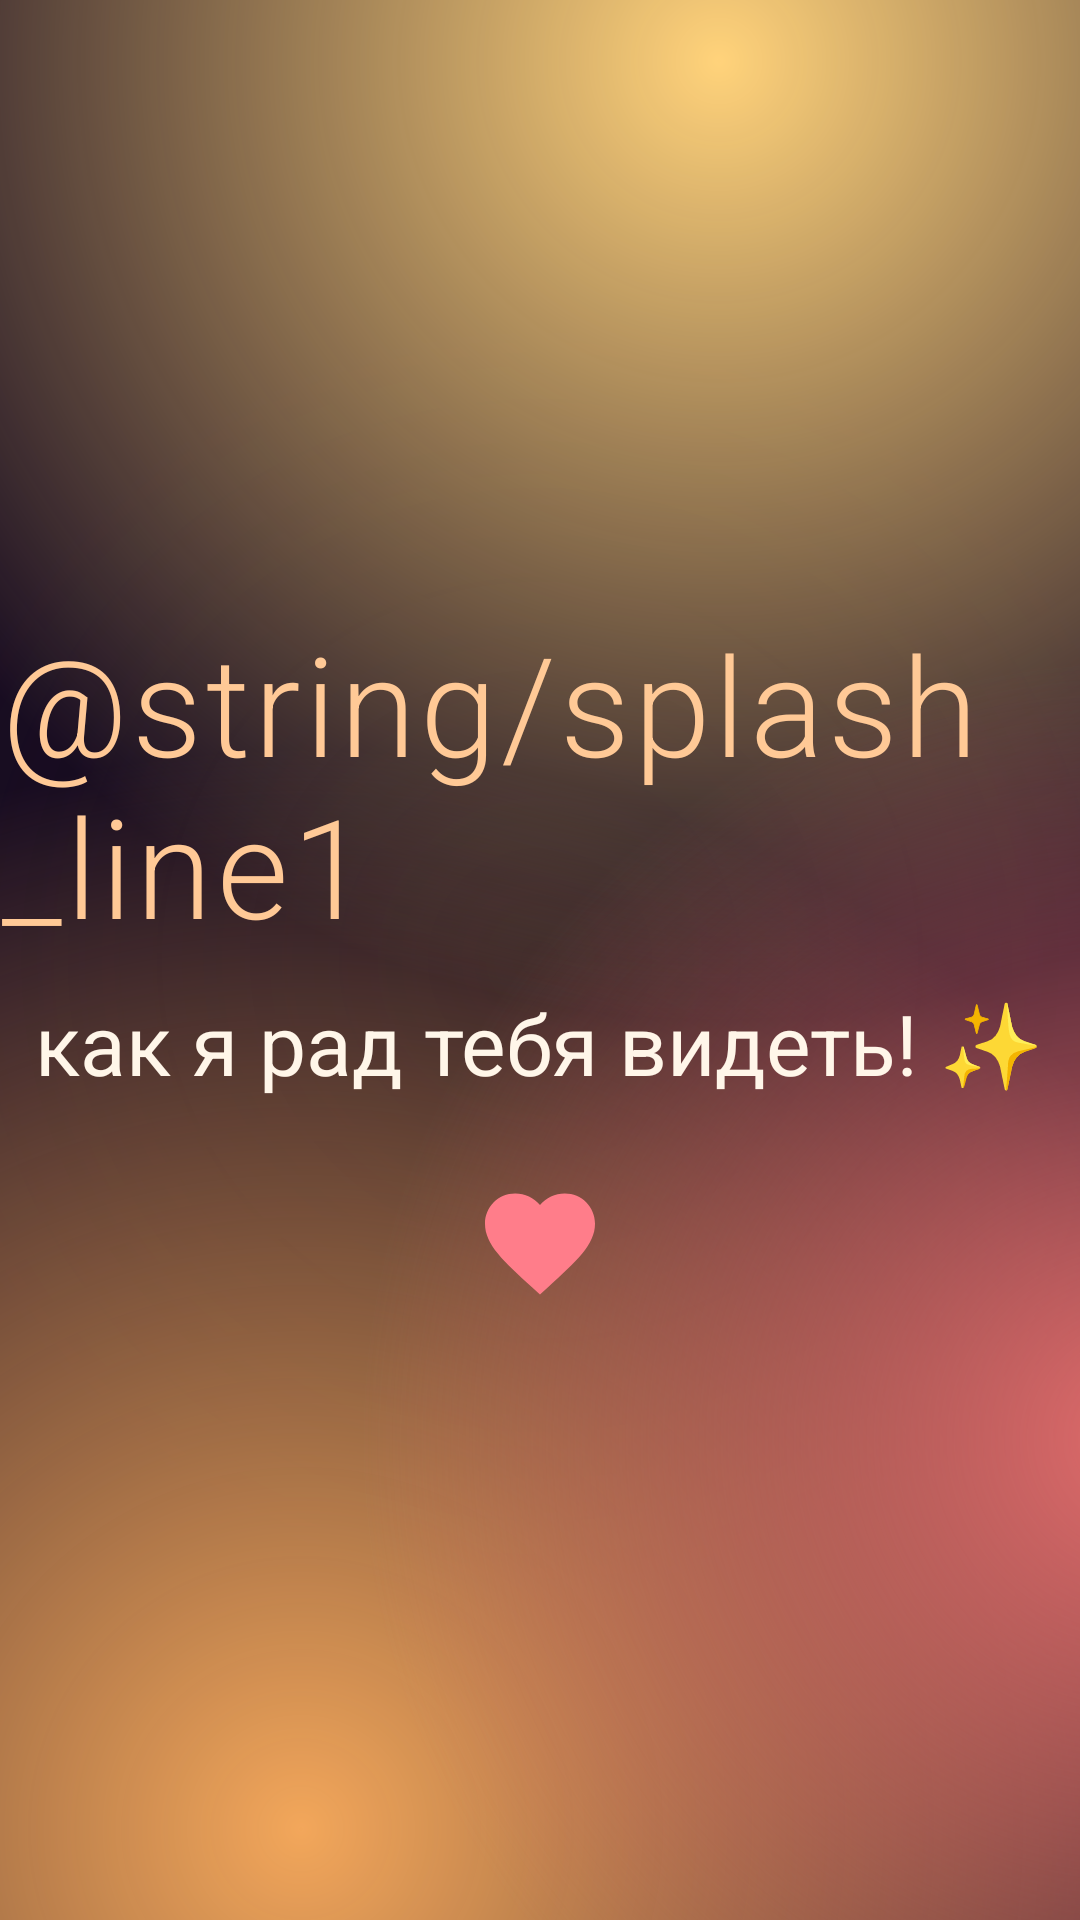

Icons on this 1080px x 1920px Android screen, each with its box as rect(x1, y1, x2, y2):
heart: rect(474, 1177, 595, 1294)
